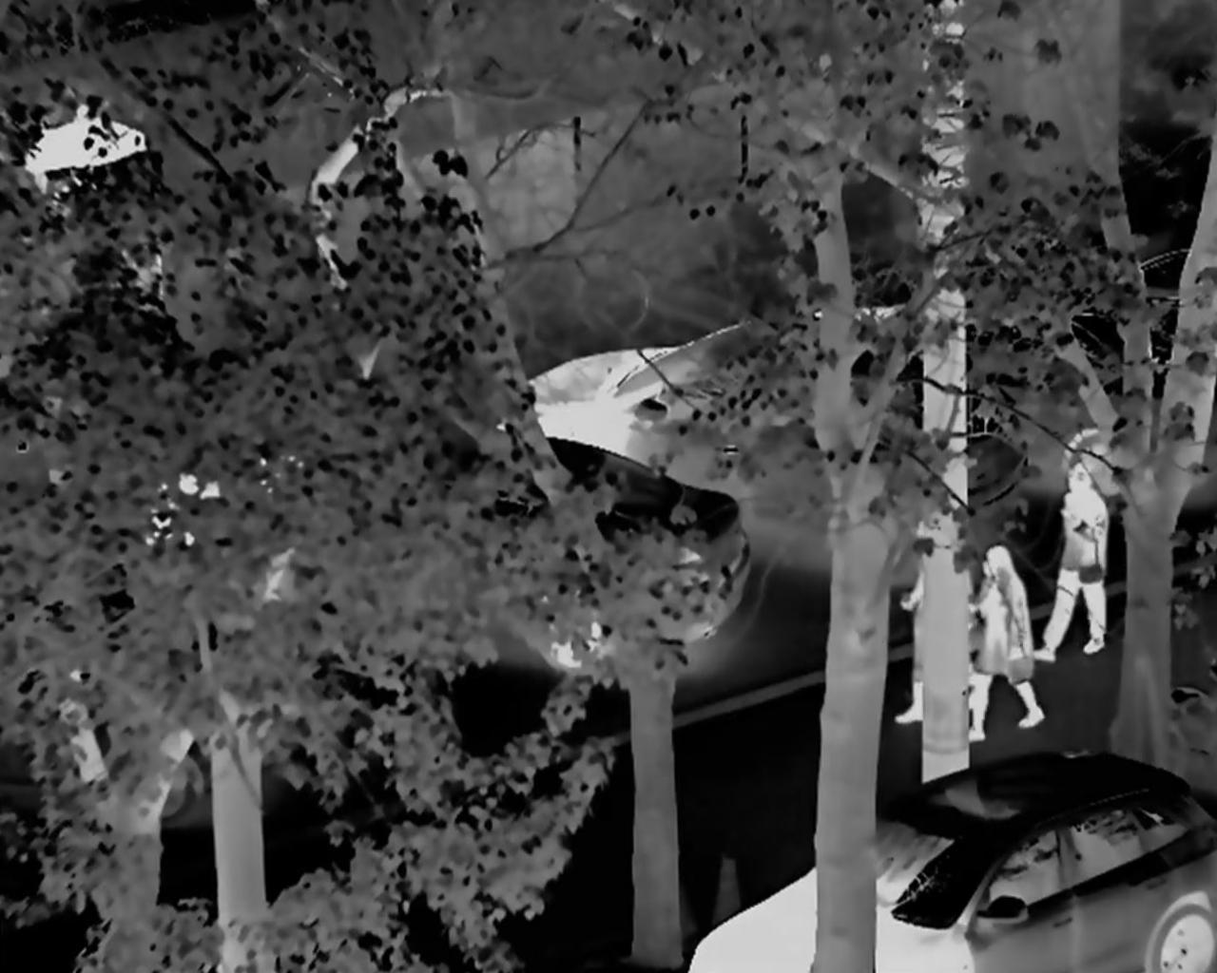person: (879, 535, 982, 728), (960, 539, 1047, 735), (1044, 451, 1109, 663)
